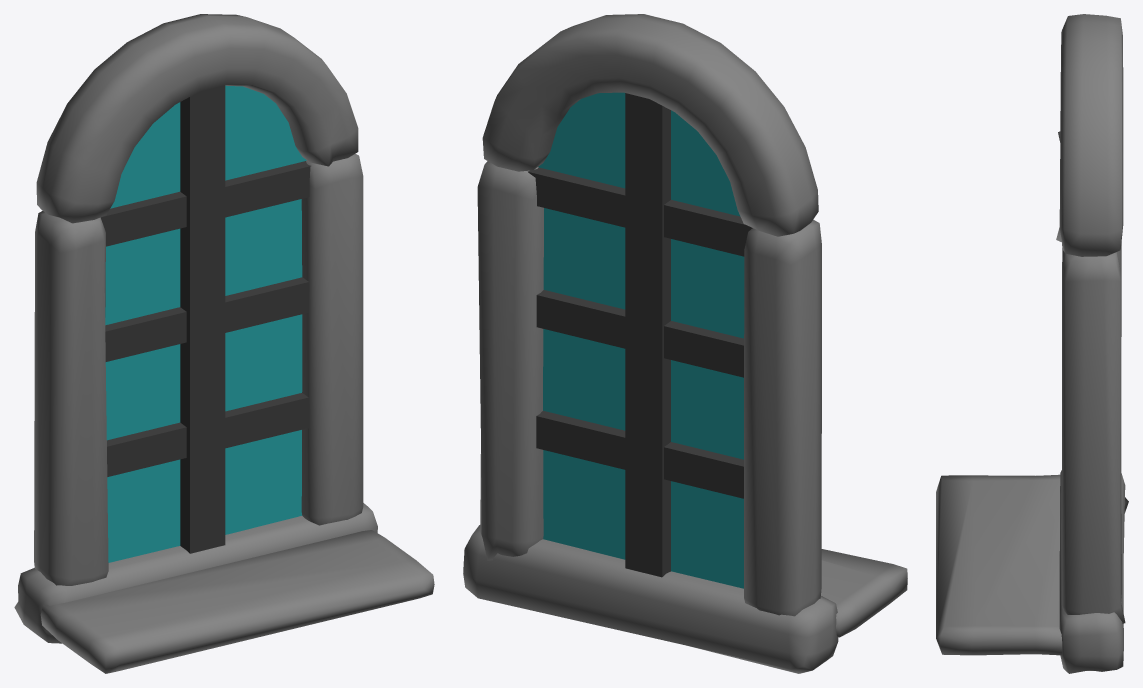
Rendered from SM_window_02.fbx.
3 renders of one model, left to right at view 1: azimuth 30°, elevation 25°; view 2: azimuth 150°, elevation 25°; view 3: azimuth 270°, elevation 25°, orthographic. The views are drawn at different scales.
Parts seen in each view (by area): view 1: Object342448; view 2: Object342448; view 3: Object342448.
Boxes of the visible parts, x1,y1,x2,y2 form: Object342448: [14, 14, 434, 673]; Object342448: [463, 14, 907, 673]; Object342448: [936, 14, 1128, 673].
Size of the model in its own units: 36.84 by 60.07 by 18.52.
